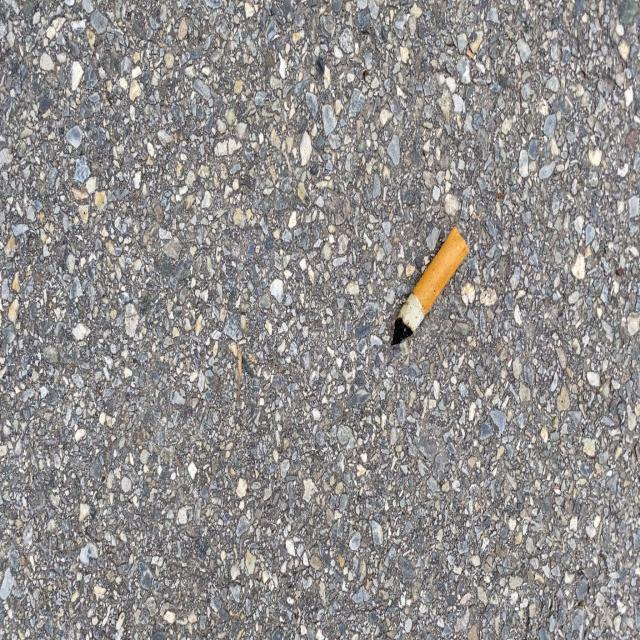other waste: (390, 224, 470, 350)
